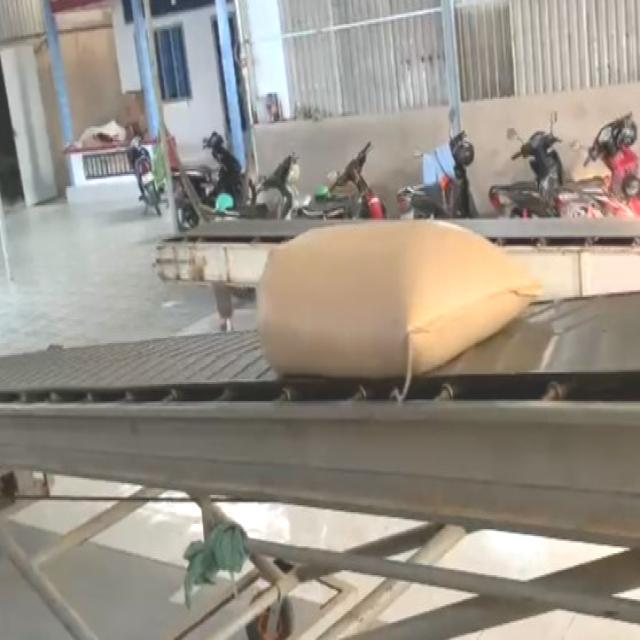gunny_bag: (258, 220, 539, 399)
